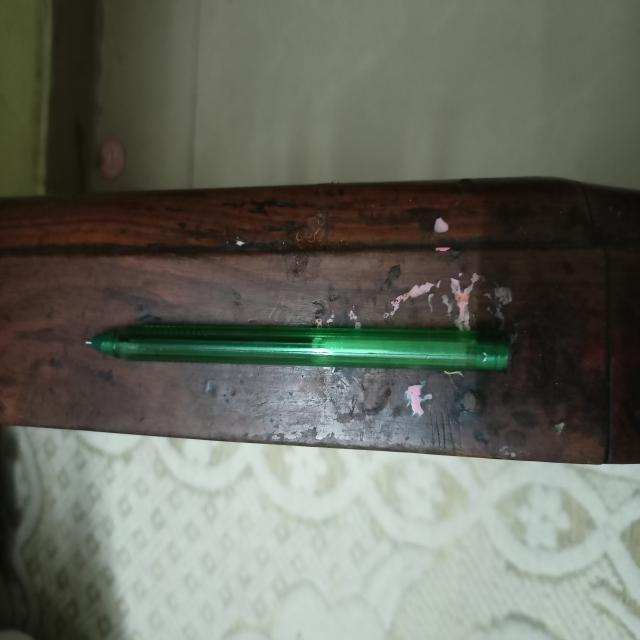pen: (67, 314, 529, 386)
